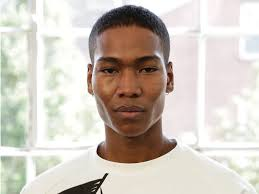person: (86, 4, 175, 139)
